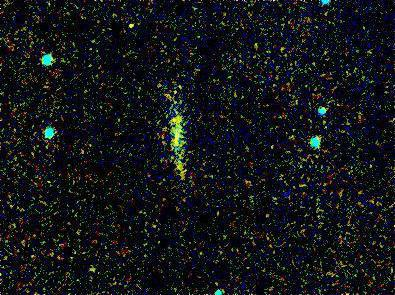star: (116, 13, 146, 43)
